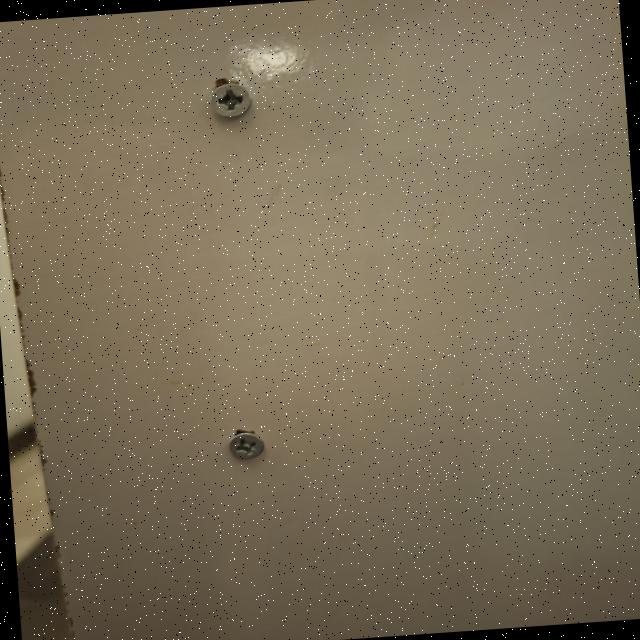Pozidriv: (220, 428, 270, 466), (205, 84, 255, 120)
